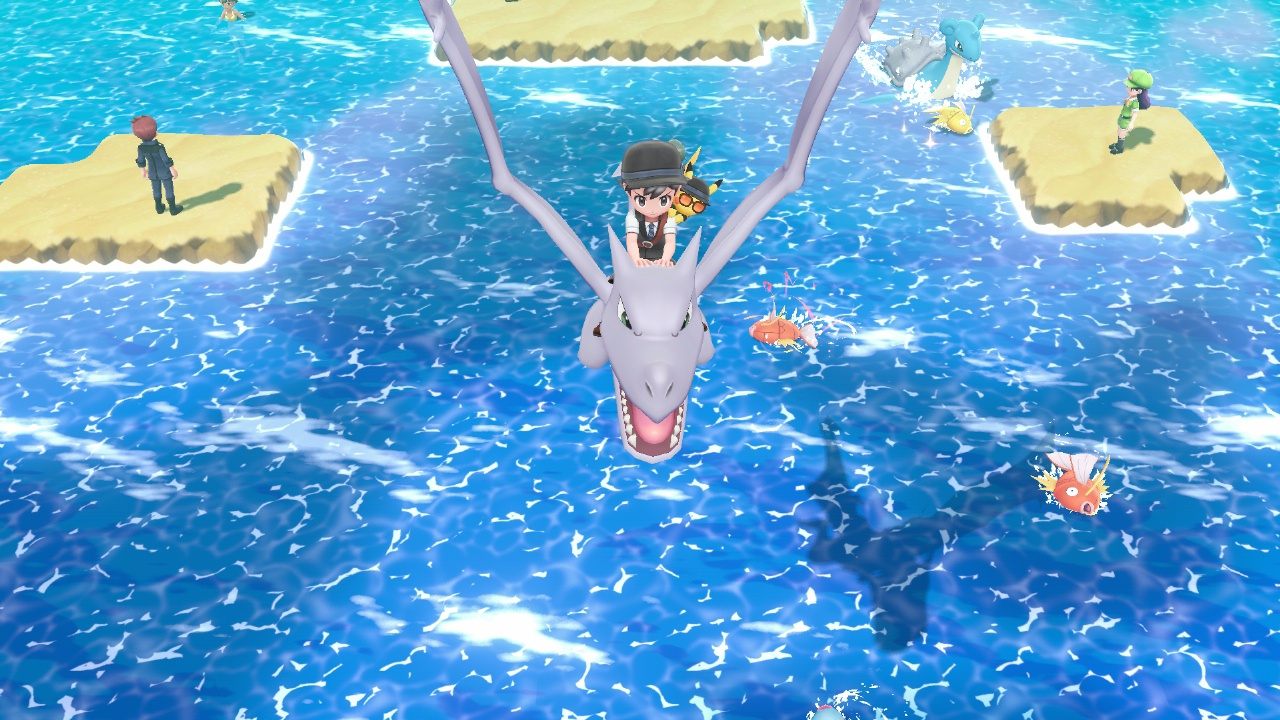Golden: (929, 102, 976, 135)
Red: (1035, 448, 1111, 517), (747, 307, 818, 347)
